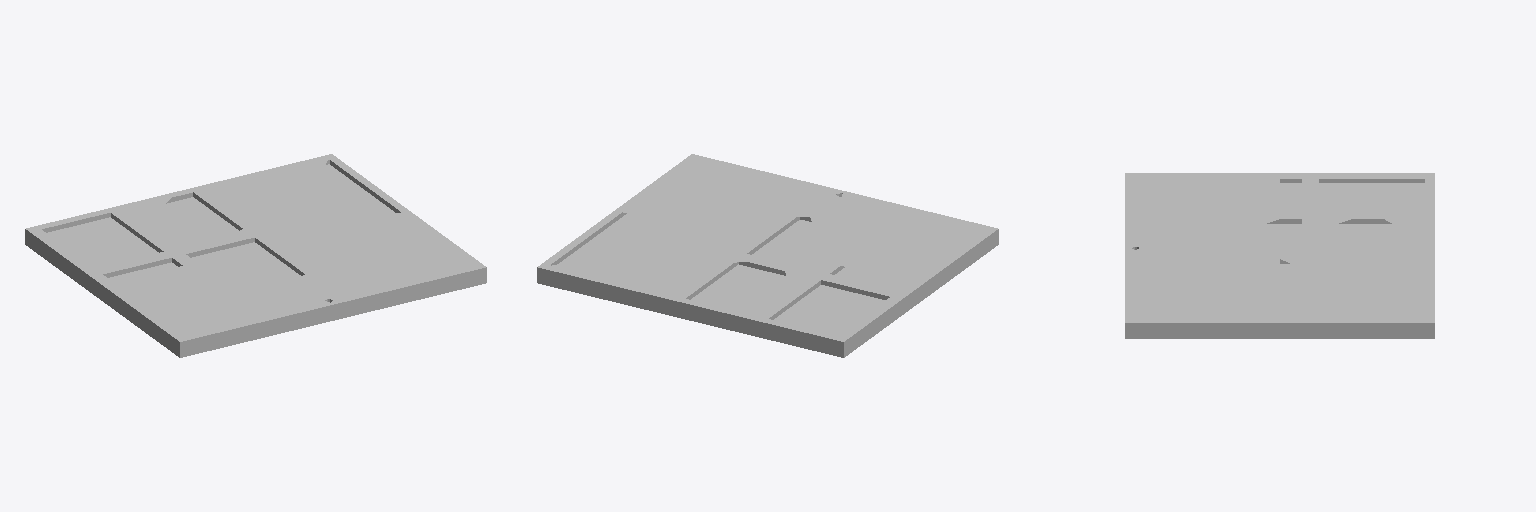
File: pack-two.obj
3 views of the same model, side by side, from view 1: azimuth 30°, elevation 25°; view 2: azimuth 150°, elevation 25°; view 3: azimuth 270°, elevation 25° (orthographic).
Parts seen in each view (by area): view 1: 000_Box_-_baked_&_lg_cell_-_baked_&_sm_cell_-_top_LFT_-_baked_&_; view 2: 000_Box_-_baked_&_lg_cell_-_baked_&_sm_cell_-_top_LFT_-_baked_&_; view 3: 000_Box_-_baked_&_lg_cell_-_baked_&_sm_cell_-_top_LFT_-_baked_&_.
Boxes of the visible parts, box(x1,y1,x2,y2) form: 000_Box_-_baked_&_lg_cell_-_baked_&_sm_cell_-_top_LFT_-_baked_&_: box(25, 154, 486, 357); 000_Box_-_baked_&_lg_cell_-_baked_&_sm_cell_-_top_LFT_-_baked_&_: box(537, 154, 998, 357); 000_Box_-_baked_&_lg_cell_-_baked_&_sm_cell_-_top_LFT_-_baked_&_: box(1125, 173, 1434, 338).
Bounding box in the file's own units: 200 × 10 × 175.